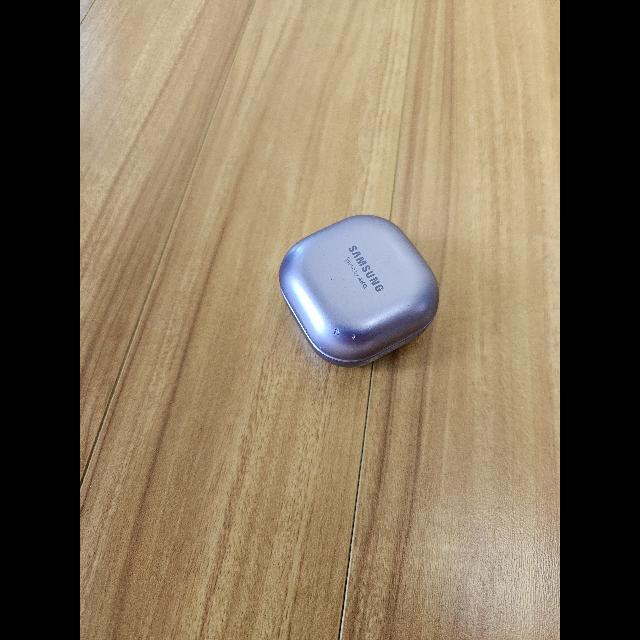buds-pro: (276, 210, 440, 370)
